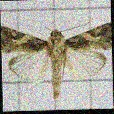Spodoptera litura: (1, 17, 112, 99)
